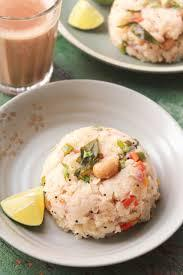upma: (36, 118, 155, 242), (97, 0, 183, 63)
